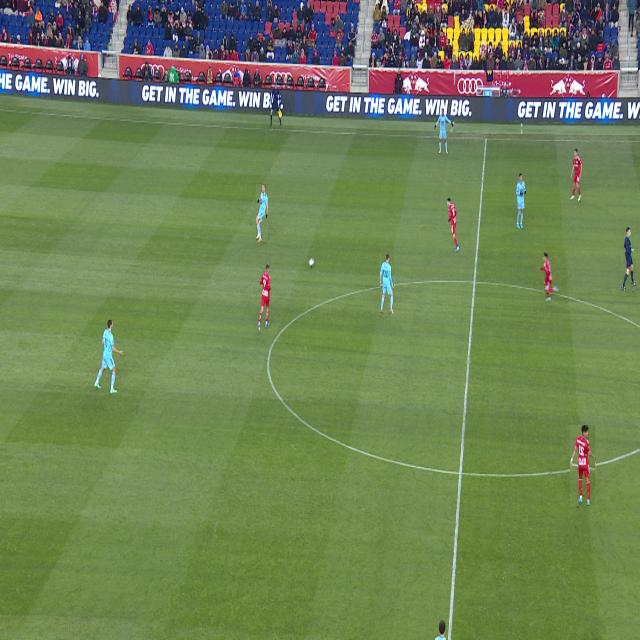football: (309, 258, 314, 267)
player: (94, 320, 123, 394), (571, 425, 595, 506), (538, 253, 557, 302), (258, 264, 271, 332), (380, 253, 394, 314), (435, 108, 453, 155), (570, 148, 583, 202), (256, 185, 268, 242), (447, 198, 459, 251), (516, 173, 526, 229), (435, 620, 446, 639)
referee: (622, 228, 636, 291)
